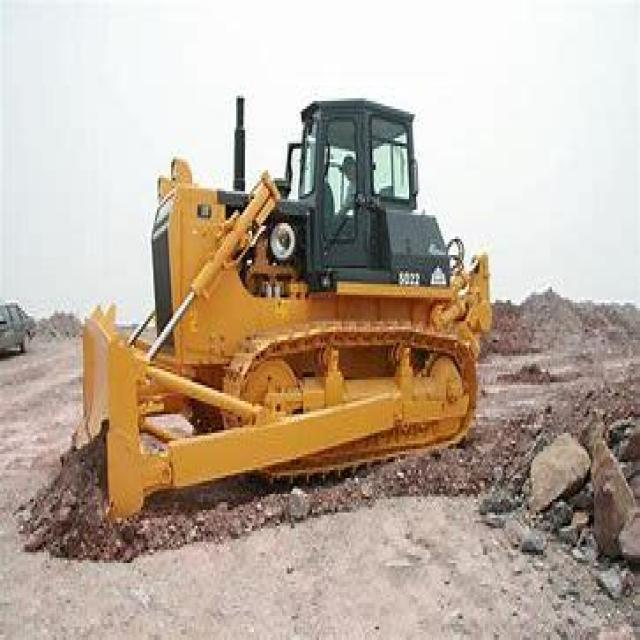buldozerpayloadergrader: (53, 64, 478, 523)
